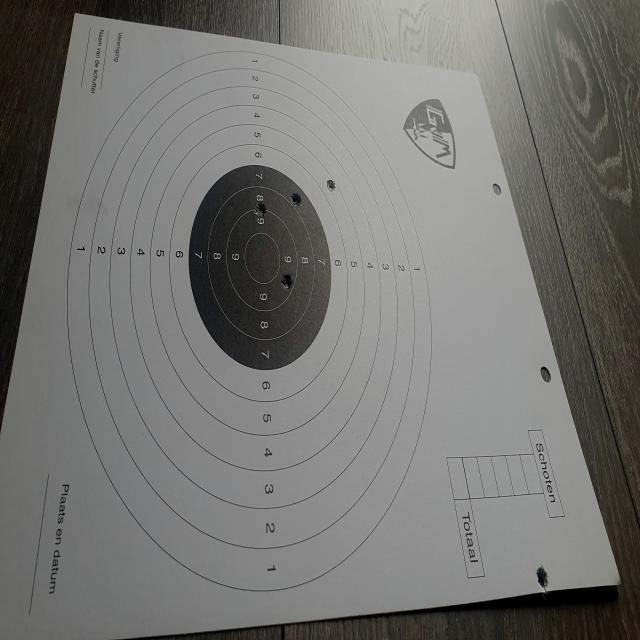0: (535, 564, 550, 592)
5: (326, 176, 336, 197)
7: (290, 190, 302, 210)
9: (280, 270, 294, 294), (254, 200, 266, 218)
Target: (65, 45, 434, 598)
black_contour: (189, 164, 331, 371)
